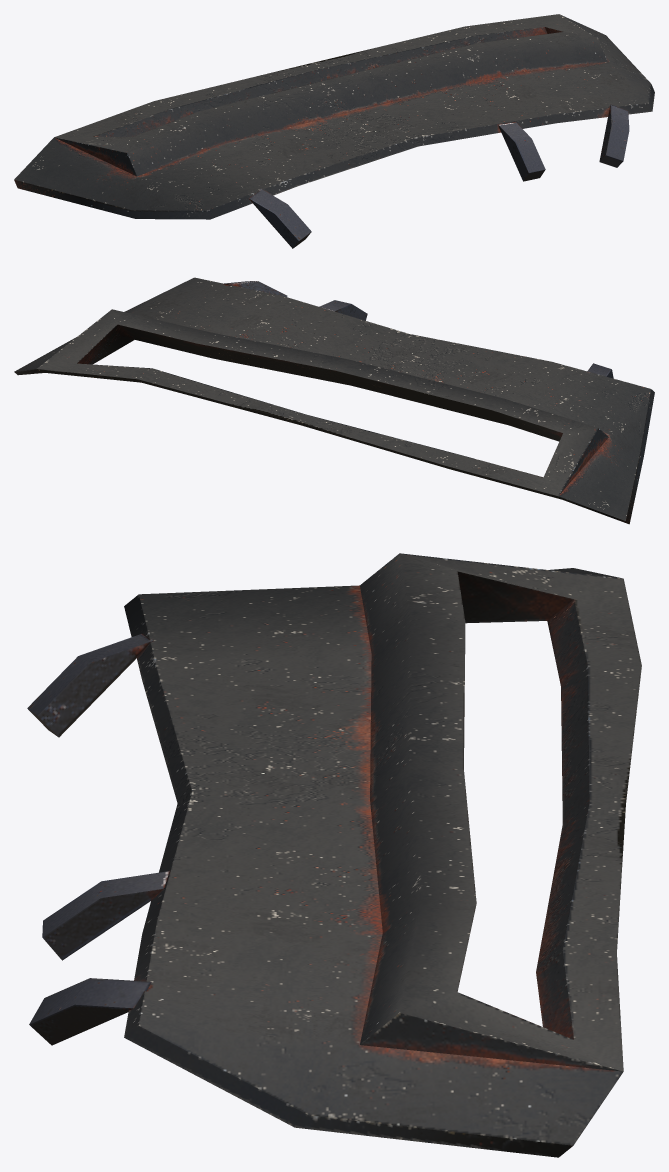
File: C70WindshieldArmor_WorldItem.fbx
The picture shows the model from 3 angles, top to bottom: view 1: azimuth 30°, elevation 25°; view 2: azimuth 150°, elevation 25°; view 3: azimuth 270°, elevation 25°; orthographic projection. The views are drawn at different scales.
Visible parts, largest first — view 1: WindshieldArmor_obj; view 2: WindshieldArmor_obj; view 3: WindshieldArmor_obj.
Boxes of the visible parts, x1,y1,x2,y2 form: WindshieldArmor_obj: (14,14,654,248); WindshieldArmor_obj: (14,277,654,524); WindshieldArmor_obj: (27,553,641,1157).
Bounding box in the file's own units: 2.66 × 0.2588 × 1.2.
